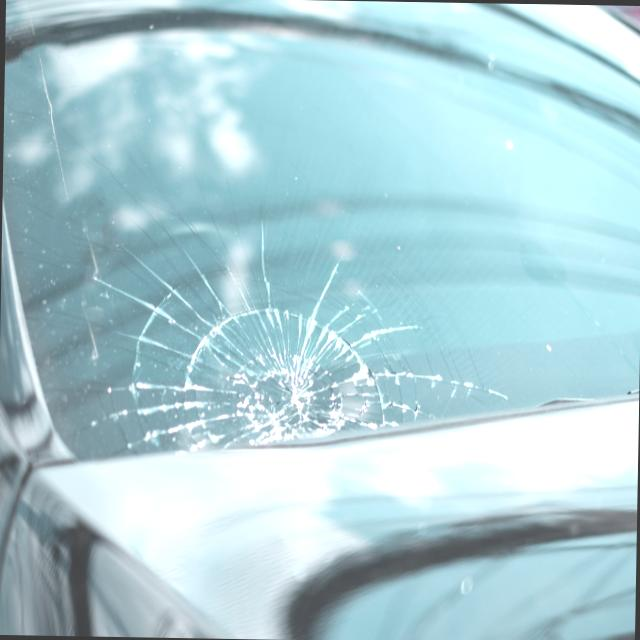Fissure: (0, 141, 539, 461)
